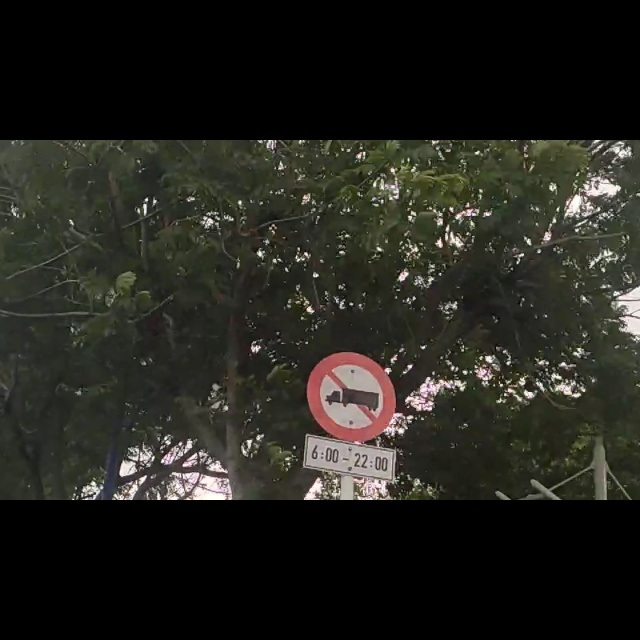bien_cam: (303, 378, 397, 601)
